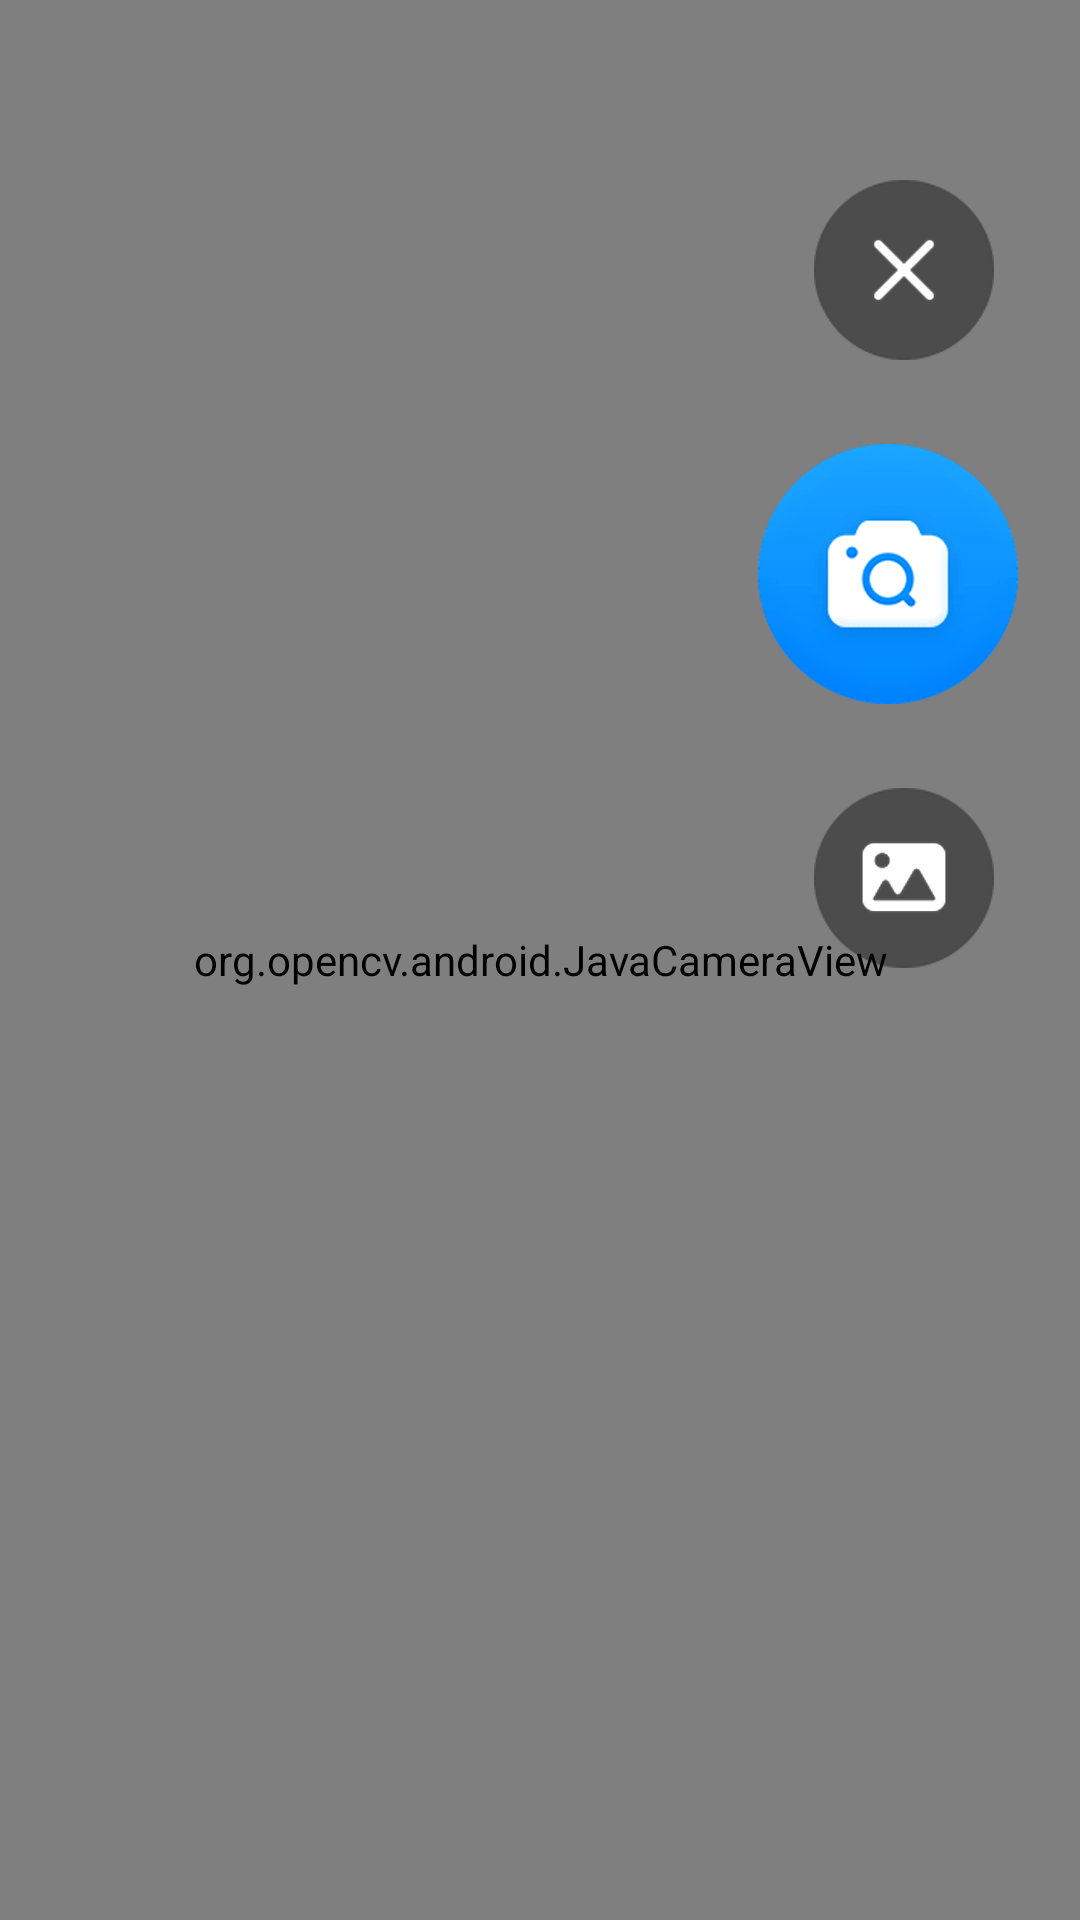

Where to tap for icons on this 1080 x 1920 app screen, as [x,y]:
album: [904,878]
cancel: [904,270]
